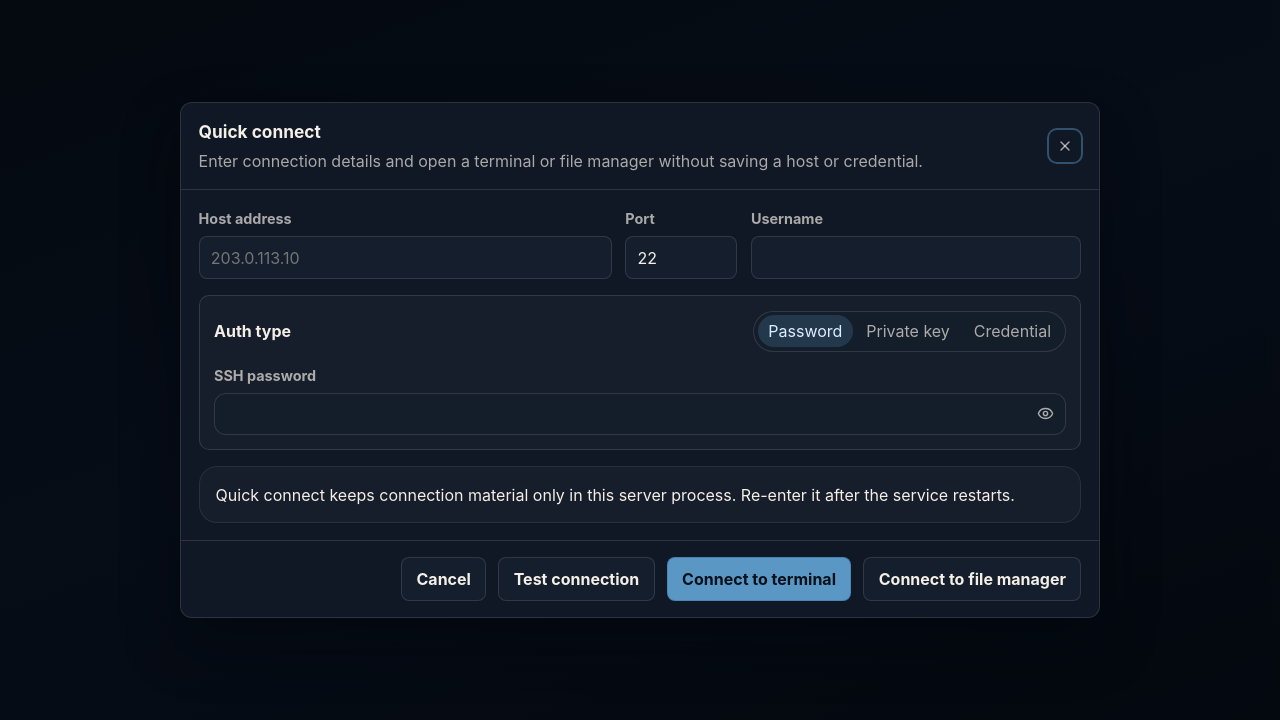
Test: TemporaryQuickConnectDialog › uses the shared eye-icon password controls
The width and height of the screenshot is (1280, 720).
Expected: the icon with class "lucide-eye" is shown, x1=1036 y1=406 x2=1054 y2=422
Click the button named "Show password" at (1045, 414), box x1=1028 y1=397 x2=1062 y2=431
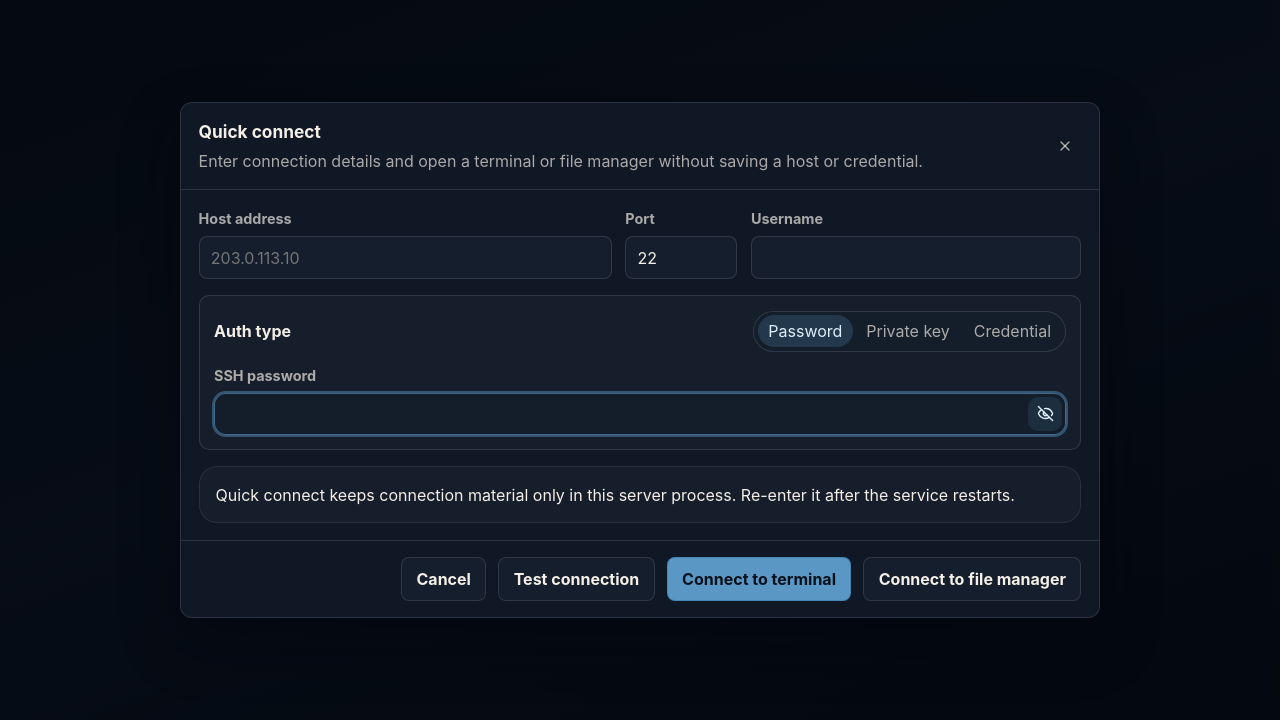
Now the button named "Hide password" is shown, box x1=1028 y1=397 x2=1062 y2=431
